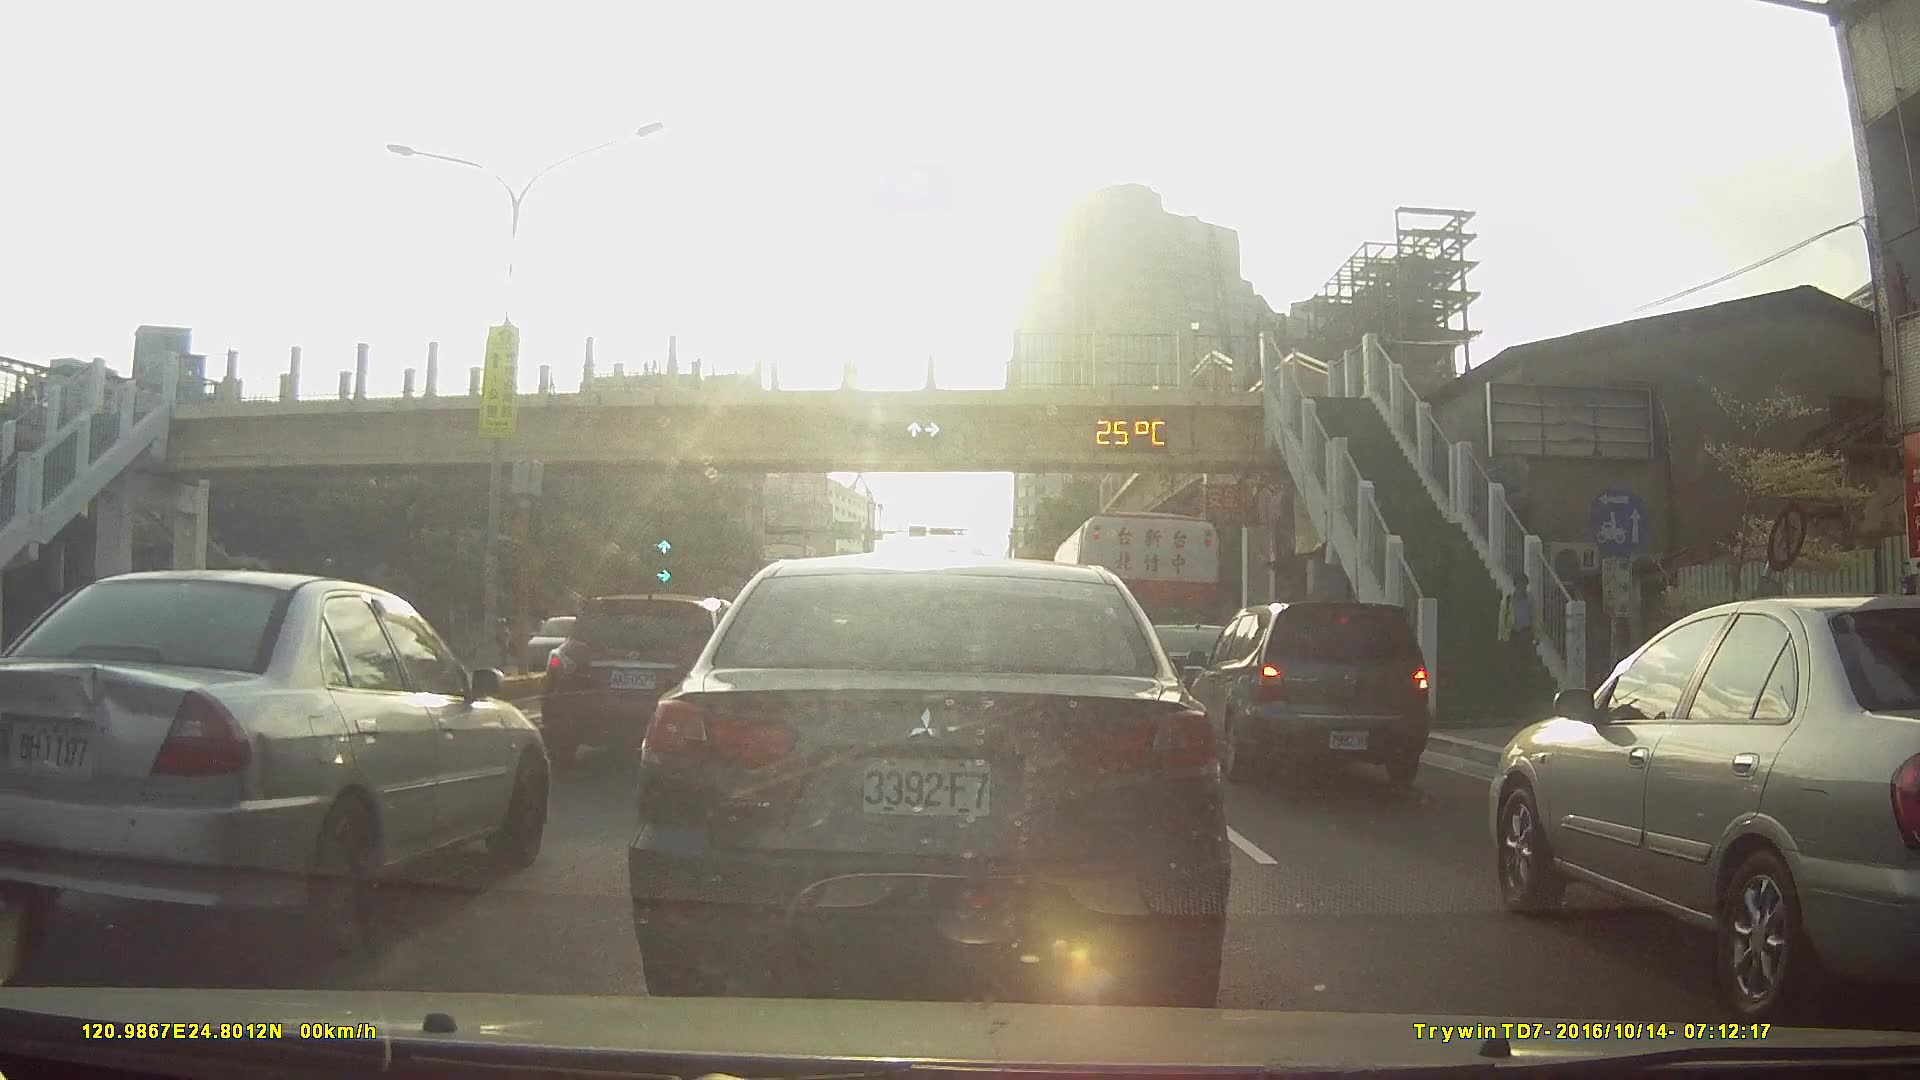pedestrian: (1495, 577, 1543, 701)
vehicle: (634, 555, 1225, 1009), (0, 570, 561, 938), (1477, 593, 1920, 1015), (1184, 599, 1442, 785), (547, 593, 766, 769), (1105, 615, 1262, 723), (521, 613, 612, 671)
